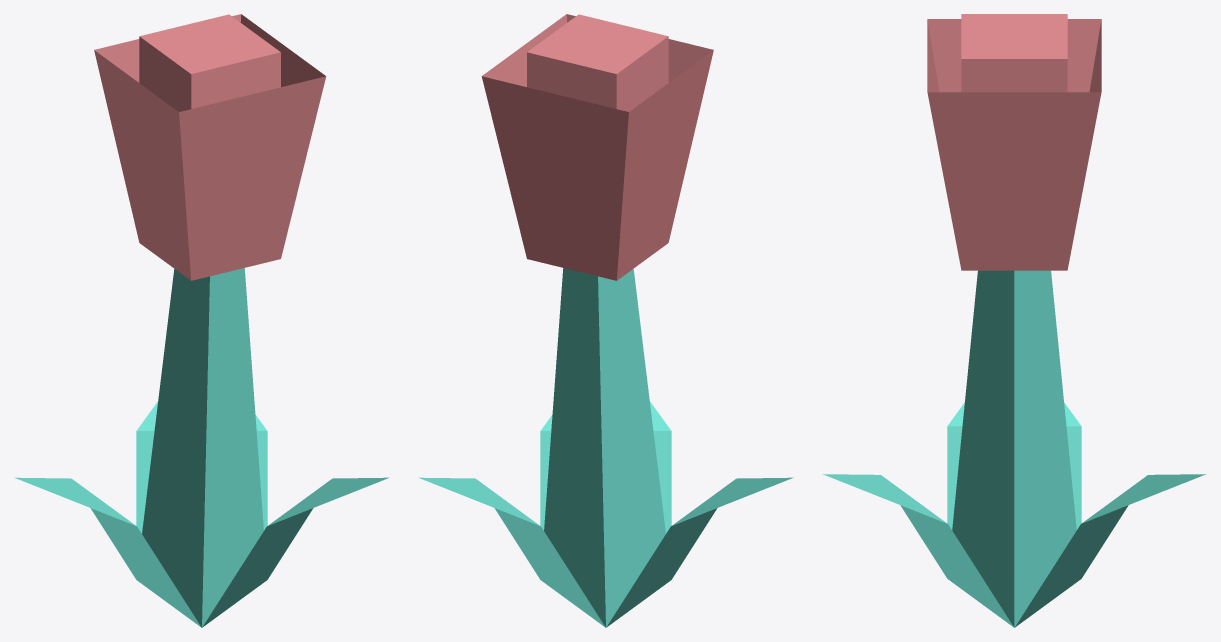
Rendered from flower_redA.glb.
3 renders of one model, left to right at view 1: azimuth 30°, elevation 25°; view 2: azimuth 150°, elevation 25°; view 3: azimuth 270°, elevation 25°, orthographic. The views are drawn at different scales.
Visible parts, largest first — view 1: flower_redA; view 2: flower_redA; view 3: flower_redA.
Boxes of the visible parts, box(x1,y1,x2,y2) form: flower_redA: box(14, 14, 389, 627); flower_redA: box(418, 14, 793, 627); flower_redA: box(822, 14, 1206, 627).
Size of the model in its own units: 0.1591 by 0.2925 by 0.1811.
